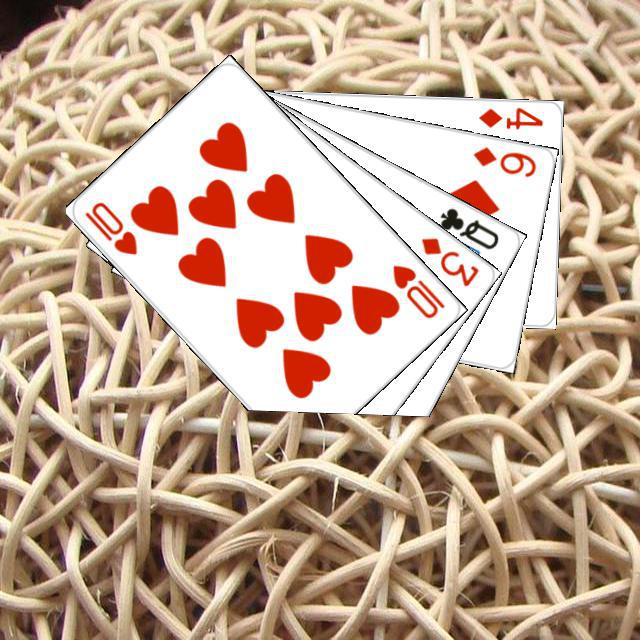10h: (387, 259, 447, 320), (79, 197, 140, 257)
3d: (416, 232, 481, 289)
4d: (474, 103, 545, 131)
6d: (468, 142, 538, 179)
Qc: (422, 202, 501, 258)
